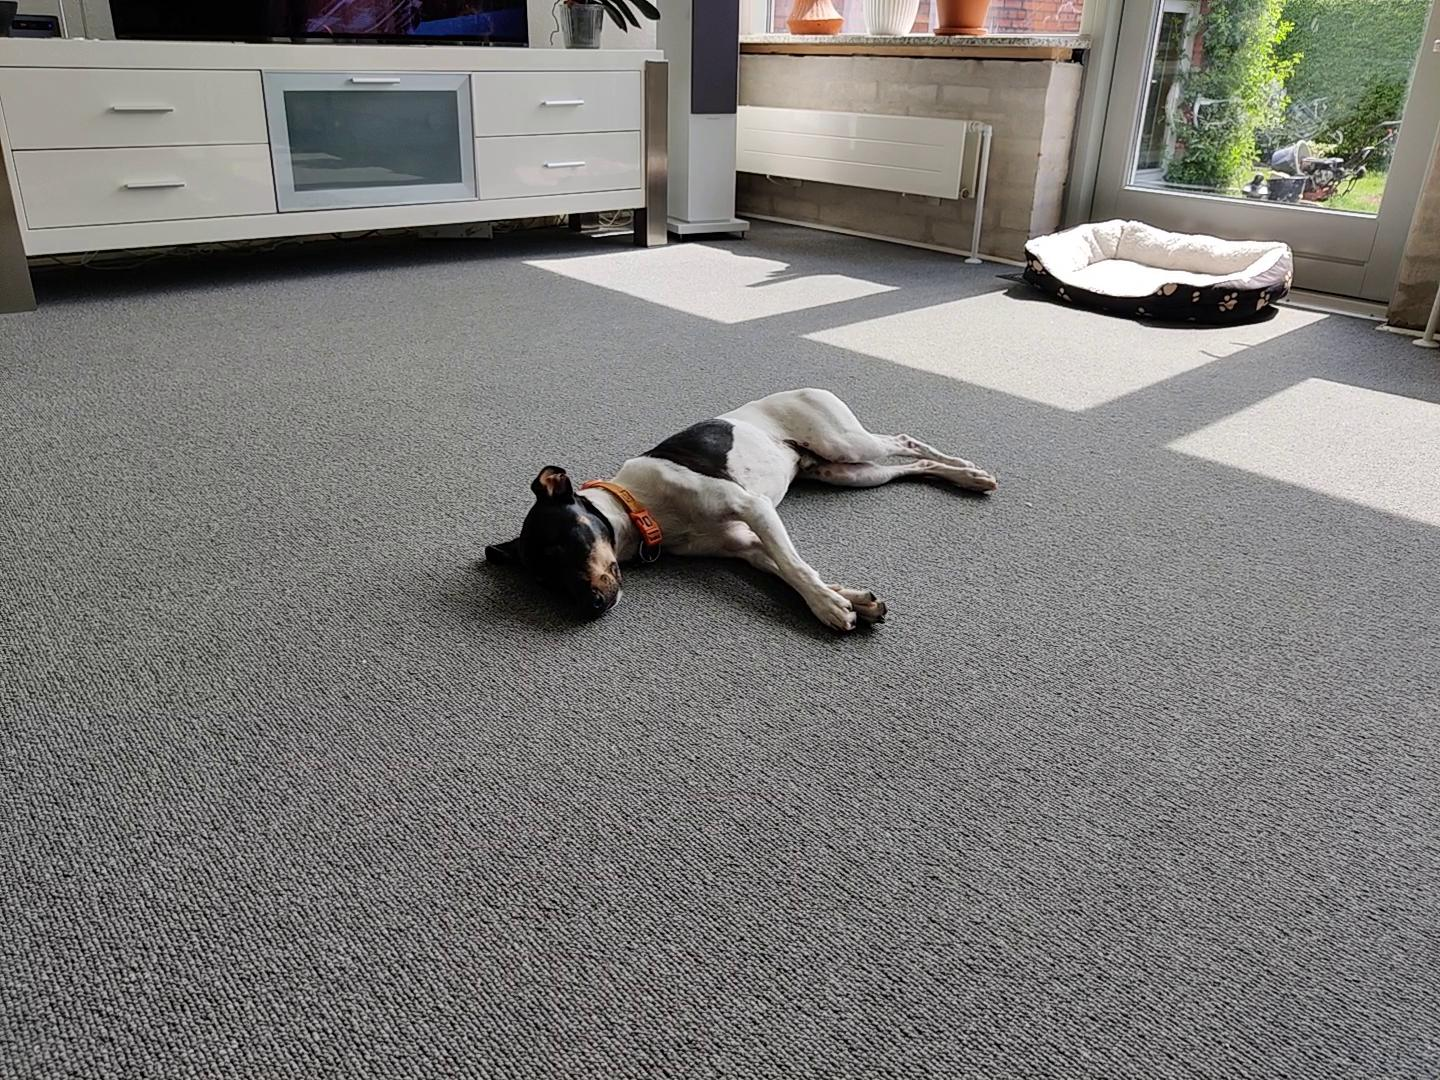Dog: (472, 368, 1002, 657)
